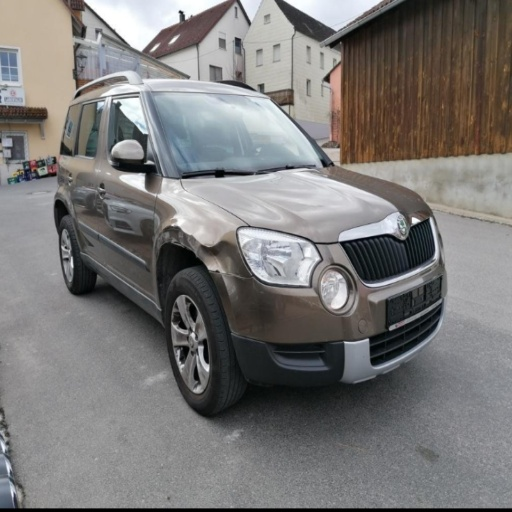dent: (156, 215, 249, 277), (218, 276, 265, 309)
scratch: (298, 295, 324, 312)
